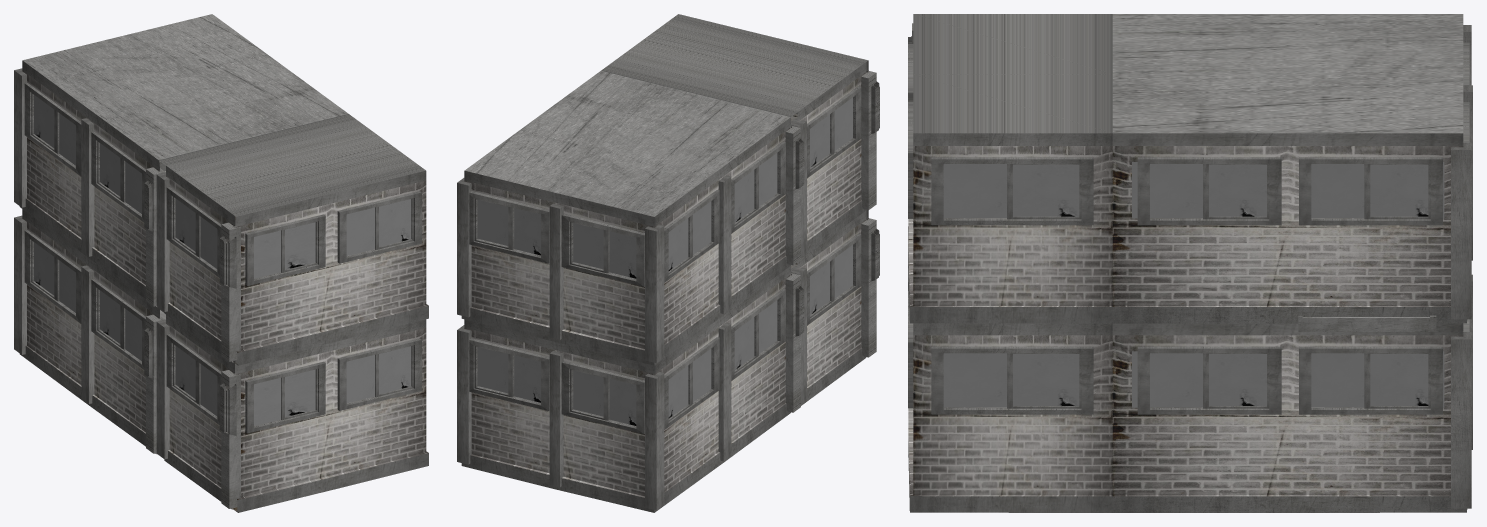
The model's file is schoolproje.fbx.
The picture shows the model from 3 angles, left to right: view 1: azimuth 30°, elevation 25°; view 2: azimuth 150°, elevation 25°; view 3: azimuth 270°, elevation 25°; orthographic projection. The views are drawn at different scales.
Visible parts, largest first — view 1: Cube.007; view 2: Cube.007; view 3: Cube.007, Cube.002_Cube.001.
Boxes of the visible parts, left/top/right/bottom form: Cube.007: left=14, top=14, right=428, bottom=512; Cube.007: left=457, top=14, right=879, bottom=512; Cube.007: left=908, top=14, right=1472, bottom=512; Cube.002_Cube.001: left=1298, top=315, right=1436, bottom=331.
Bounding box in the file's own units: 489 × 669 × 904.
